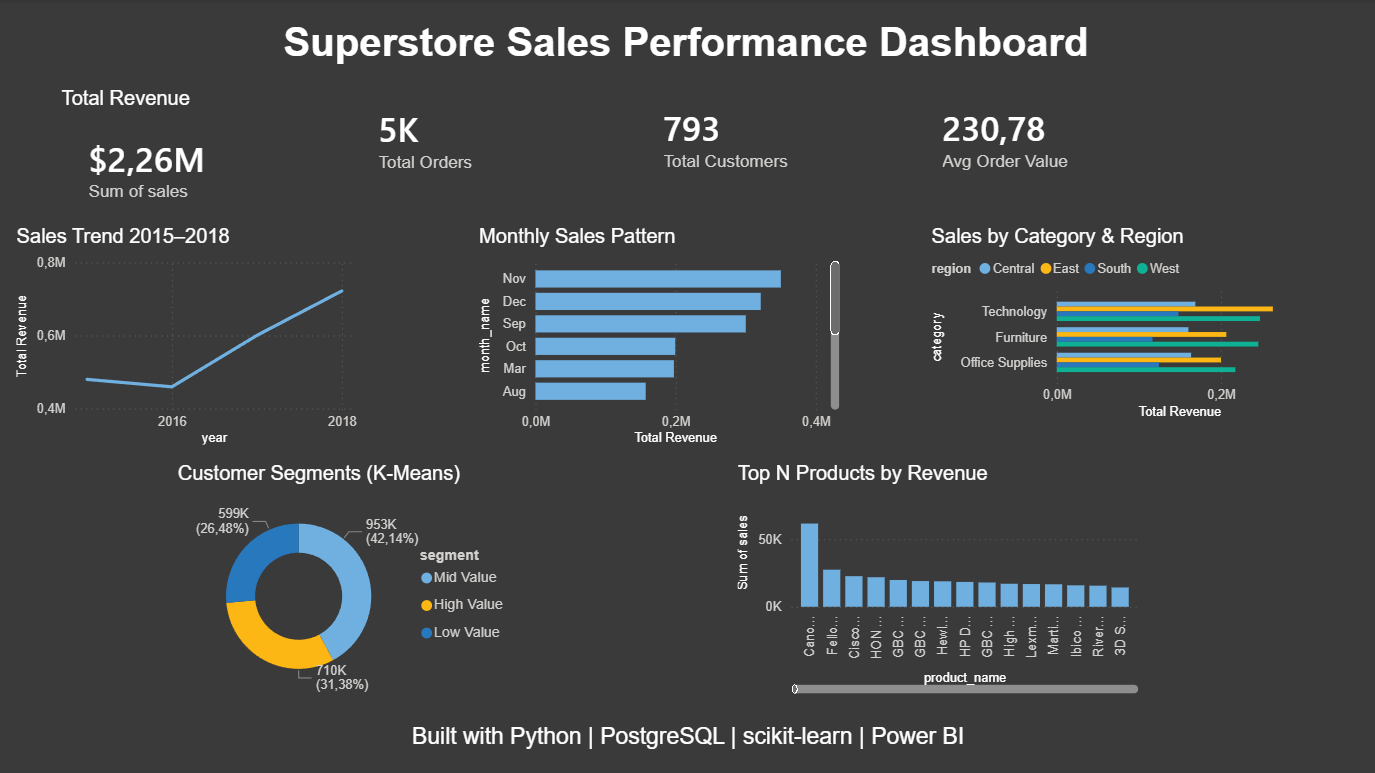

The page's visual inventory and layout, read from the dashboard file:
{"tool":"powerbi","page":{"name":"Page 1","canvas":[1280,720],"ordinal":0},"visuals":[{"type":"cardVisual","title":"Total Revenue","fields":{"Data":["Sum(superstore_clean.sales)"]},"box":[52.3,81.4,216.3,129.1],"z":0},{"type":"cardVisual","fields":{"Data":["customer_segments.Total Customers"]},"box":[587.2,46.5,208.1,164],"z":1000},{"type":"cardVisual","fields":{"Data":["customer_segments.Total Orders"]},"box":[322.1,47.7,207,164],"z":2000},{"type":"cardVisual","fields":{"Data":["customer_segments.Avg Order Value"]},"box":[846.5,46.5,231.4,164],"z":3000},{"type":"lineChart","title":"Sales Trend 2015–2018","fields":{"Category":["superstore_clean.year"],"Y":["customer_segments.Total Revenue"]},"box":[10.5,210.5,326.7,209.3],"z":4000},{"type":"clusteredBarChart","title":"Monthly Sales Pattern","fields":{"Category":["superstore_clean.month_name"],"Y":["customer_segments.Total Revenue"]},"box":[440.7,210.5,345.3,209.3],"z":5000},{"type":"clusteredBarChart","title":"Sales by Category & Region","fields":{"Y":["customer_segments.Total Revenue"],"Series":["superstore_clean.region"],"Category":["superstore_clean.category"]},"box":[861.6,210.5,369.8,184.9],"z":6000},{"type":"donutChart","title":"Customer Segments (K-Means)","fields":{"Category":["customer_segments.segment"],"Y":["customer_segments.Total Revenue"]},"box":[160.5,430.2,322.1,230.2],"z":7000},{"type":"columnChart","title":"Top N Products by Revenue","fields":{"Category":["superstore_clean.product_name"],"Y":["Sum(superstore_clean.sales)"]},"box":[681.4,430.2,382.6,220.9],"z":8000},{"type":"textbox","box":[9.5,13.7,1257.8,67.6],"z":9000},{"type":"textbox","box":[0,668.6,1280.2,43],"z":9001}]}

Visuals, with their boxes in screenshot pixels (x1, y1, x2, y2), scaled from the page's 1280x720 canvas onto the 1375x773 screenshot:
"Total Revenue" cardVisual: box(56, 87, 289, 226)
cardVisual - customer_segments.Total Customers: box(631, 50, 854, 226)
cardVisual - customer_segments.Total Orders: box(346, 51, 568, 227)
cardVisual - customer_segments.Avg Order Value: box(909, 50, 1158, 226)
"Sales Trend 2015–2018" lineChart: box(11, 226, 362, 451)
"Monthly Sales Pattern" clusteredBarChart: box(473, 226, 844, 451)
"Sales by Category & Region" clusteredBarChart: box(926, 226, 1323, 425)
"Customer Segments (K-Means)" donutChart: box(172, 462, 518, 709)
"Top N Products by Revenue" columnChart: box(732, 462, 1143, 699)
textbox: box(10, 15, 1361, 87)
textbox: box(0, 718, 1374, 764)
